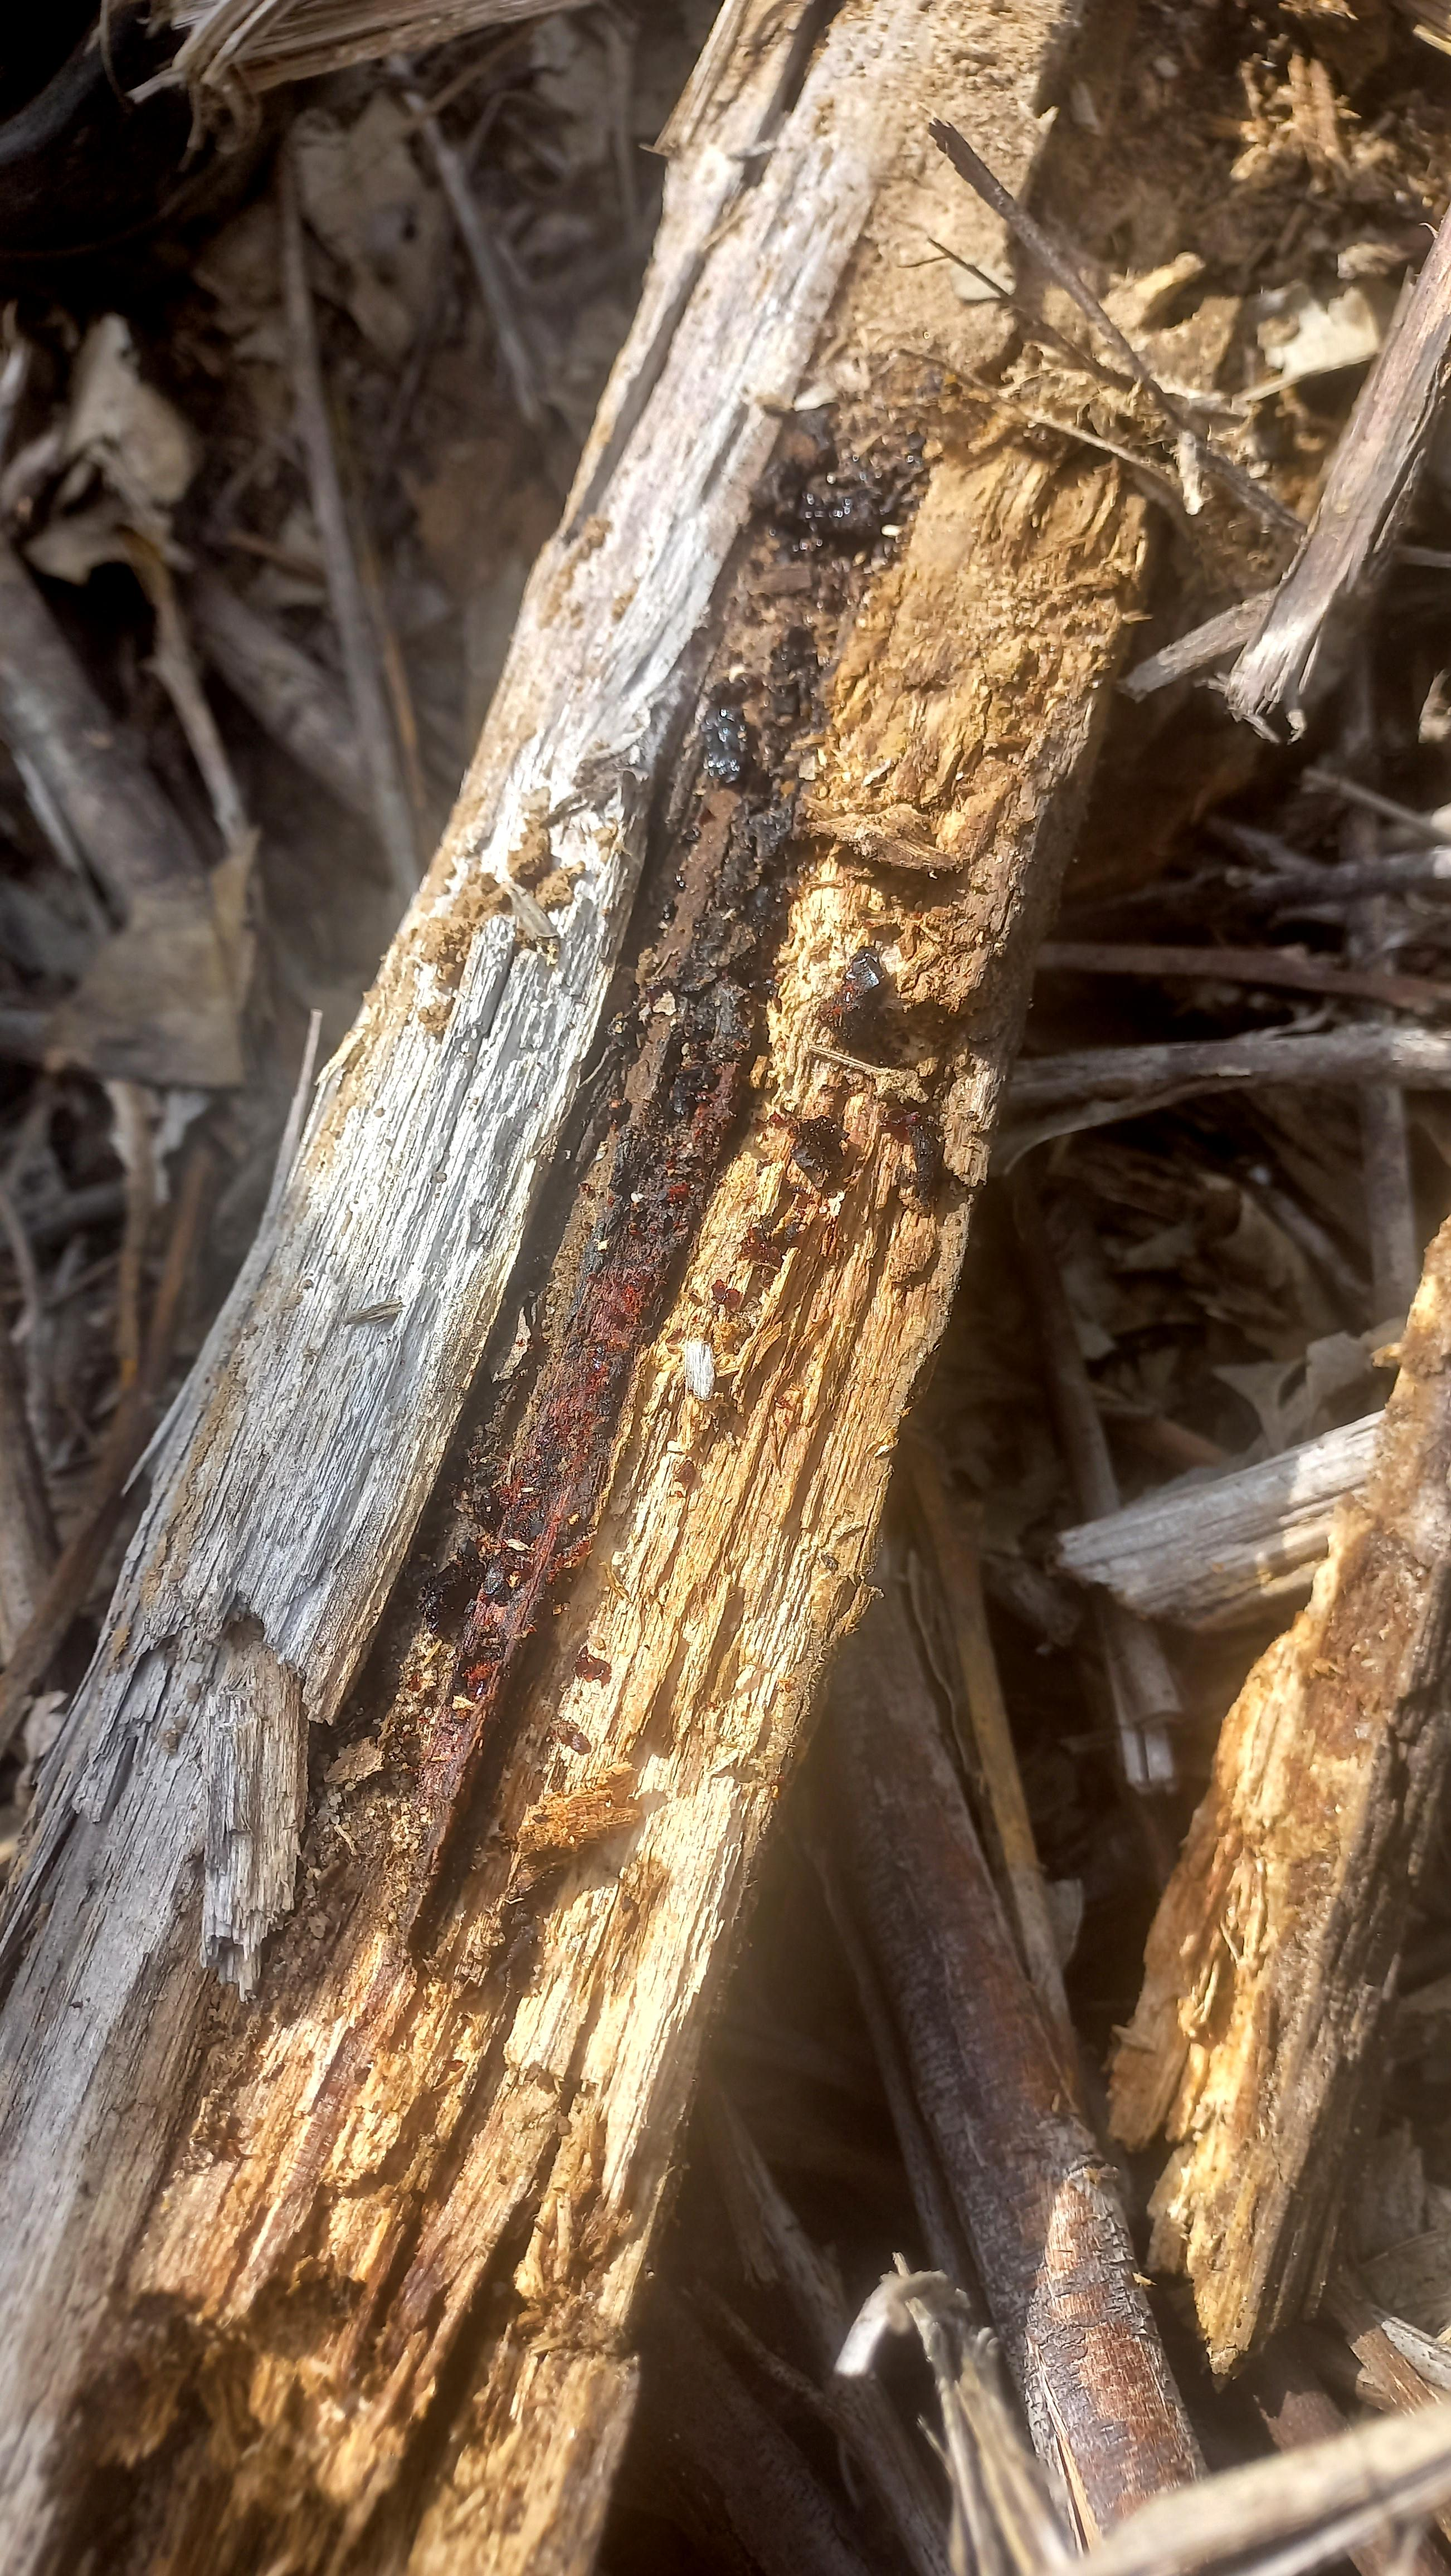Red Root Rot - Secretion: (297, 603, 832, 1960)
